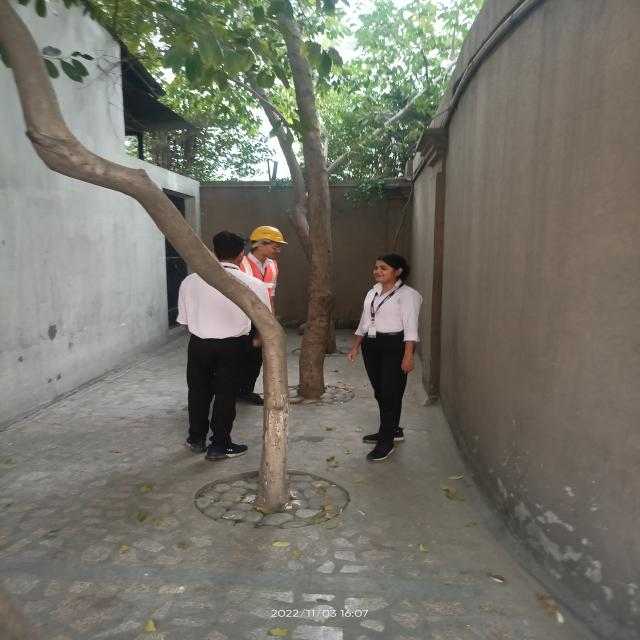safe: (246, 226, 286, 412)
unsafe: (176, 233, 253, 464), (351, 253, 433, 462)
